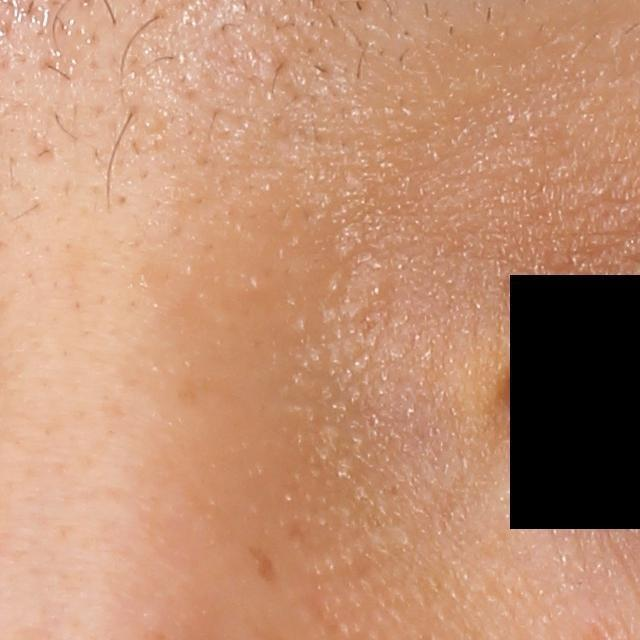atrophic_scar: (24, 123, 58, 166)
melasma: (241, 547, 281, 585)
